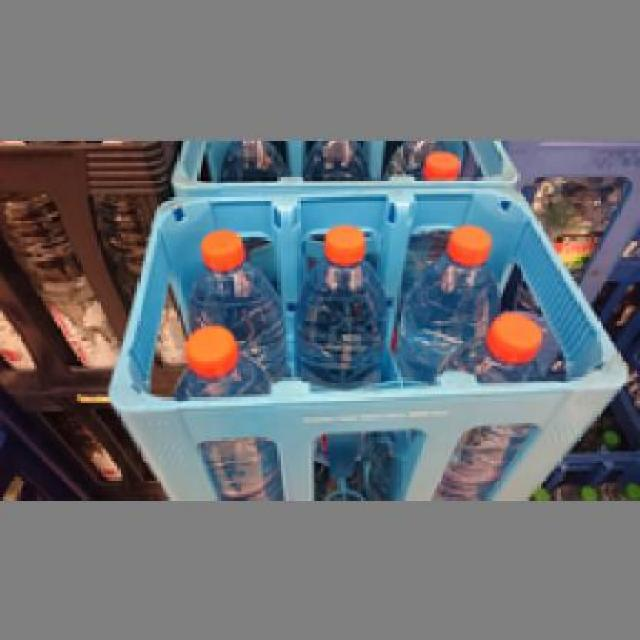Water: (423, 312, 540, 492), (172, 328, 278, 492), (394, 215, 494, 372), (180, 221, 289, 365), (292, 220, 388, 383)
